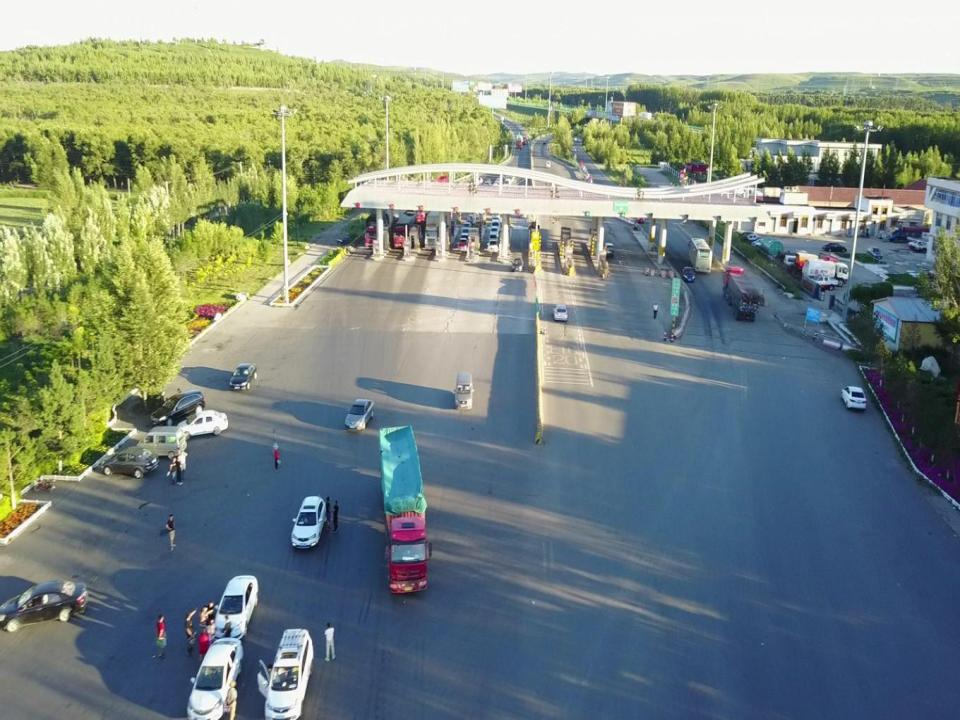bus: (689, 238, 712, 273)
car: (184, 635, 245, 720), (264, 629, 313, 719), (0, 580, 88, 630), (209, 573, 258, 646), (150, 390, 205, 431), (292, 496, 328, 551), (100, 449, 160, 478), (178, 412, 227, 441), (344, 396, 375, 430), (230, 362, 257, 391), (841, 385, 866, 411), (783, 255, 805, 269), (750, 238, 772, 251), (822, 241, 847, 252), (554, 303, 568, 322), (907, 238, 927, 251), (915, 240, 934, 253), (738, 231, 760, 242), (744, 233, 764, 245), (867, 245, 882, 260), (682, 266, 696, 282), (510, 257, 524, 273), (486, 239, 498, 253), (603, 243, 613, 258), (456, 238, 468, 250), (635, 212, 646, 224), (488, 232, 498, 244), (466, 214, 476, 226), (492, 218, 500, 232), (461, 220, 471, 231), (491, 213, 501, 224), (460, 231, 469, 243), (461, 227, 470, 237), (490, 226, 499, 235), (545, 160, 551, 168), (571, 146, 576, 150)
truck: (378, 426, 430, 595), (725, 268, 759, 323), (363, 204, 393, 250), (804, 259, 848, 288), (421, 200, 446, 250), (393, 208, 419, 250), (793, 253, 838, 275), (886, 225, 930, 245), (775, 248, 808, 266), (811, 273, 838, 290)
van: (133, 426, 187, 461), (454, 372, 474, 408)
